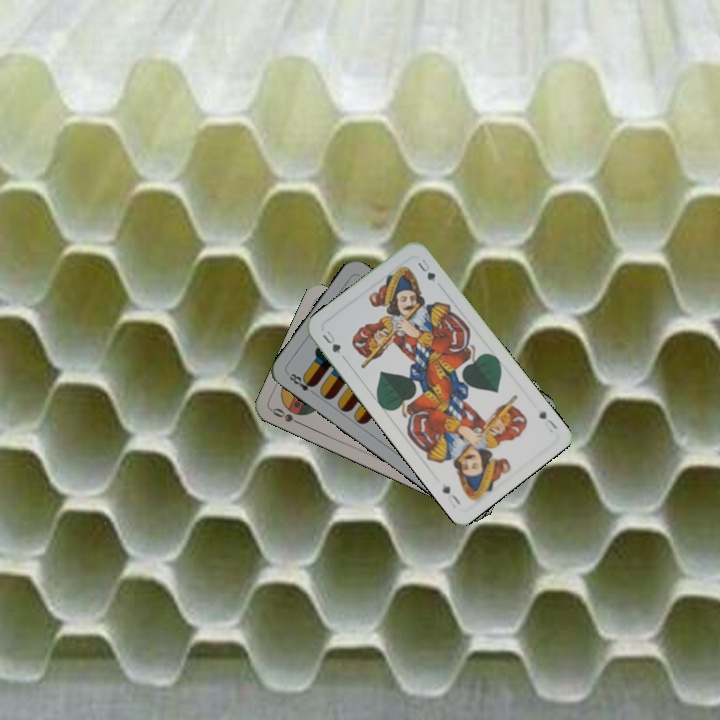E8: (285, 369, 319, 398)
GU: (318, 326, 344, 356), (535, 406, 560, 434)
SO: (268, 404, 306, 428)
